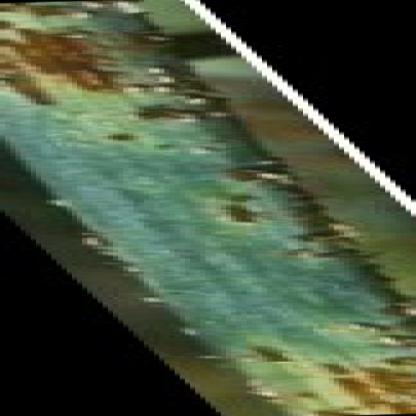wheat Stem Rust: (0, 6, 194, 110), (212, 334, 415, 415), (246, 254, 390, 323), (189, 201, 352, 246), (194, 158, 348, 198), (95, 110, 220, 132)
